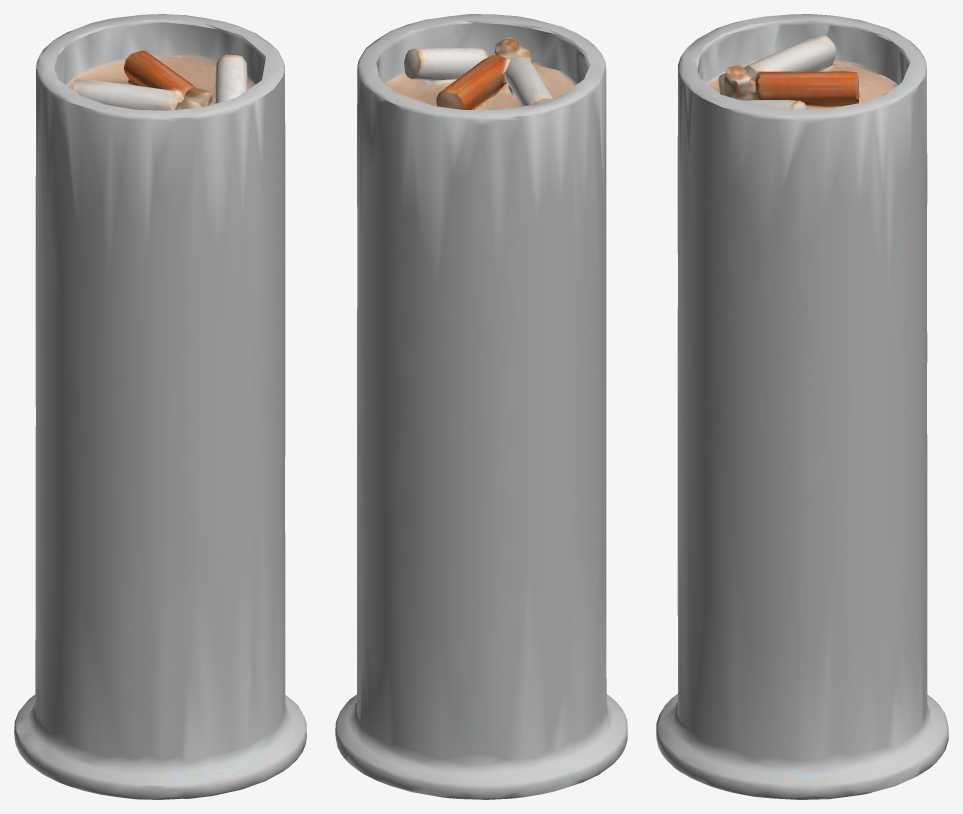
The model's file is standash.glb.
3 views of the same model, side by side, from view 1: azimuth 30°, elevation 25°; view 2: azimuth 150°, elevation 25°; view 3: azimuth 270°, elevation 25° (orthographic).
Visible parts, largest first — view 1: standash; view 2: standash; view 3: standash.
Boxes of the visible parts, x1,y1,x2,y2 form: standash: [14, 14, 306, 799]; standash: [335, 14, 627, 799]; standash: [656, 14, 948, 799].
Bounding box in the file's own units: 0.3063 × 0.78 × 0.3061.
Materials: 1 (1 with a texture image).
